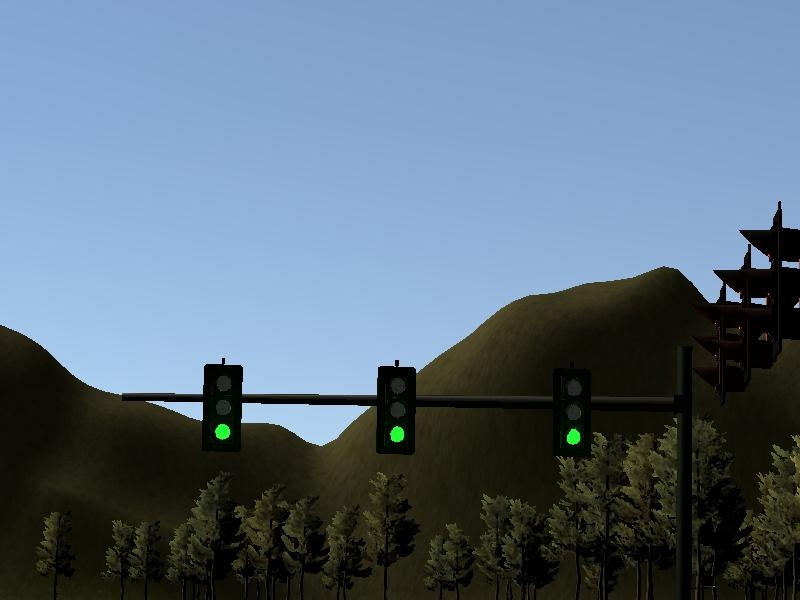GREEN: (377, 365, 417, 455), (203, 364, 243, 454), (552, 370, 592, 454)
